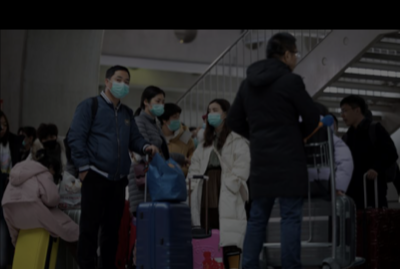with_mask: (109, 73, 131, 98), (206, 106, 224, 126), (149, 96, 166, 115), (41, 133, 58, 149), (167, 112, 181, 131)
without_mask: (340, 106, 355, 124), (291, 49, 300, 68), (1, 118, 8, 138)
